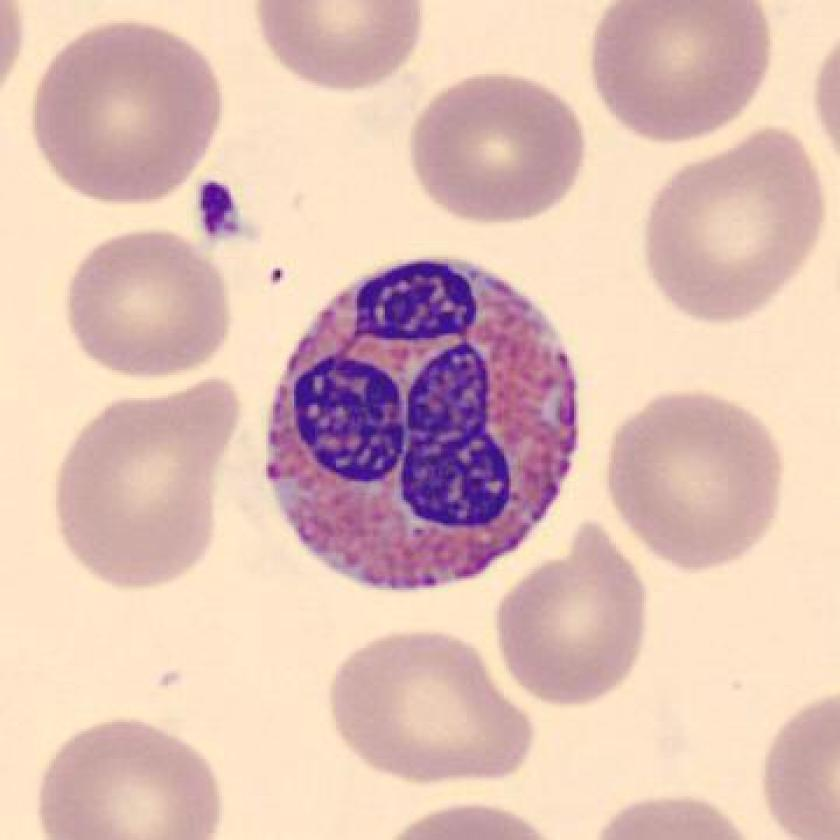eosinophil: (253, 247, 589, 615)
